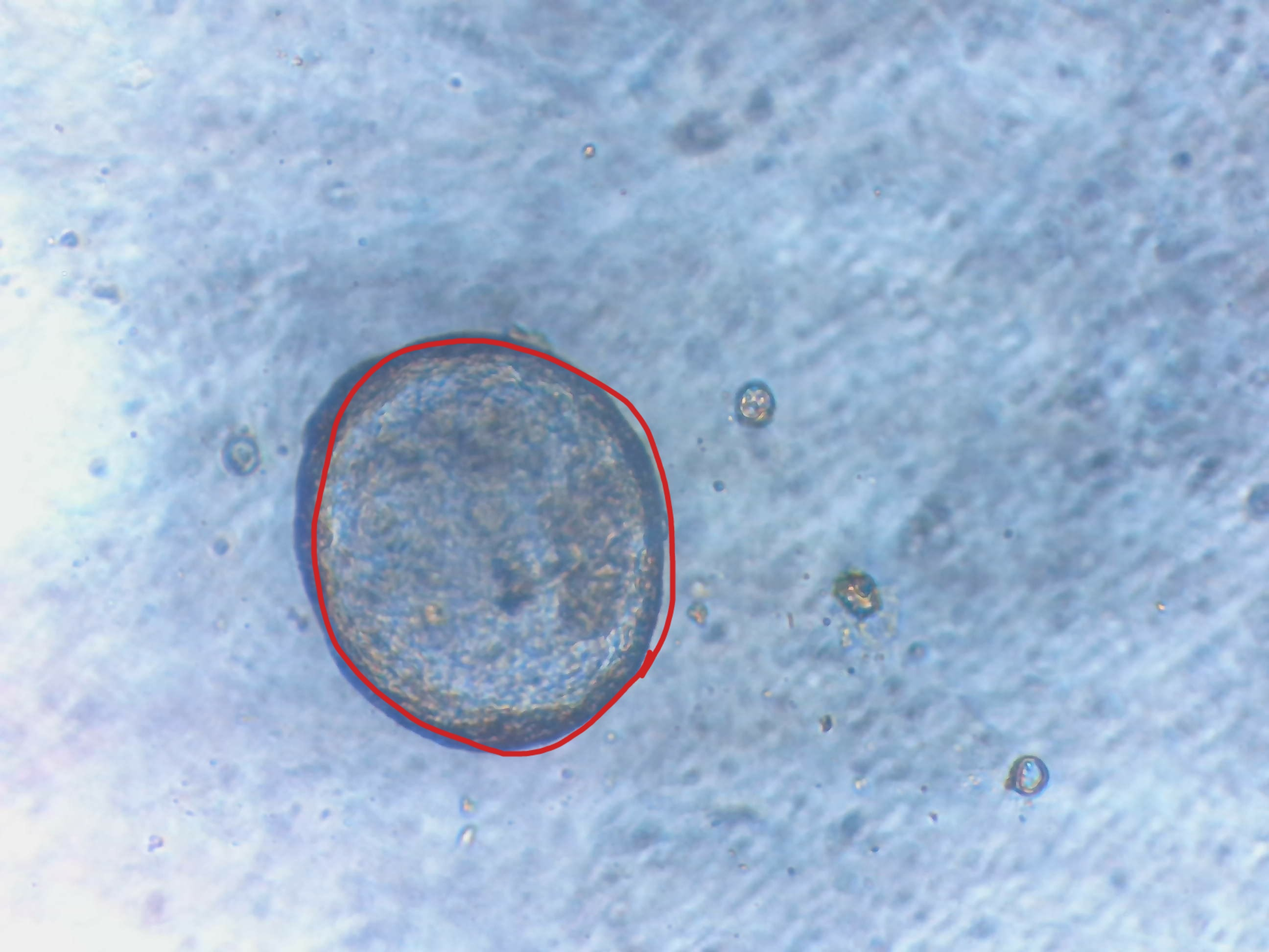organoid: (775, 566, 850, 635), (827, 489, 885, 545), (939, 303, 981, 347), (687, 670, 723, 709)
